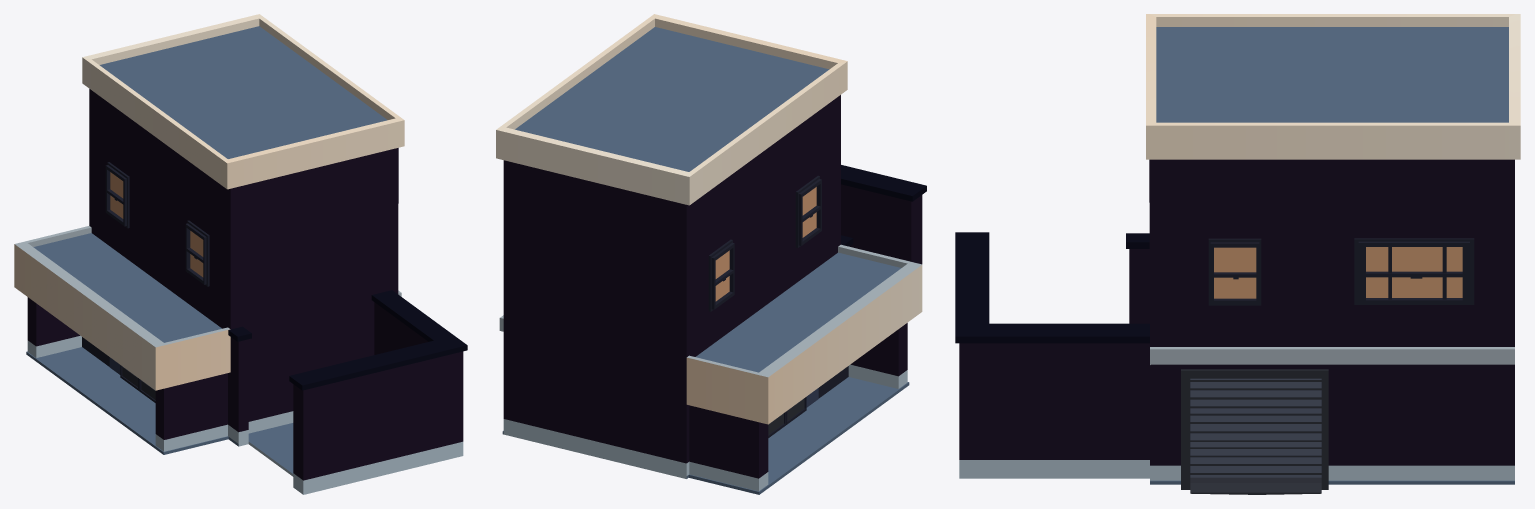
The model's file is Building_Small07.fbx.
The picture shows the model from 3 angles, left to right: view 1: azimuth 30°, elevation 25°; view 2: azimuth 150°, elevation 25°; view 3: azimuth 270°, elevation 25°; orthographic projection. The views are drawn at different scales.
Visible parts, largest first — view 1: Cube.437; view 2: Cube.437; view 3: Cube.437.
Boxes of the visible parts, box(x1,y1,x2,y2) form: Cube.437: box(14, 14, 467, 494); Cube.437: box(496, 14, 926, 494); Cube.437: box(955, 14, 1520, 494).
Size of the model in its own units: 700 by 759 by 1059.
